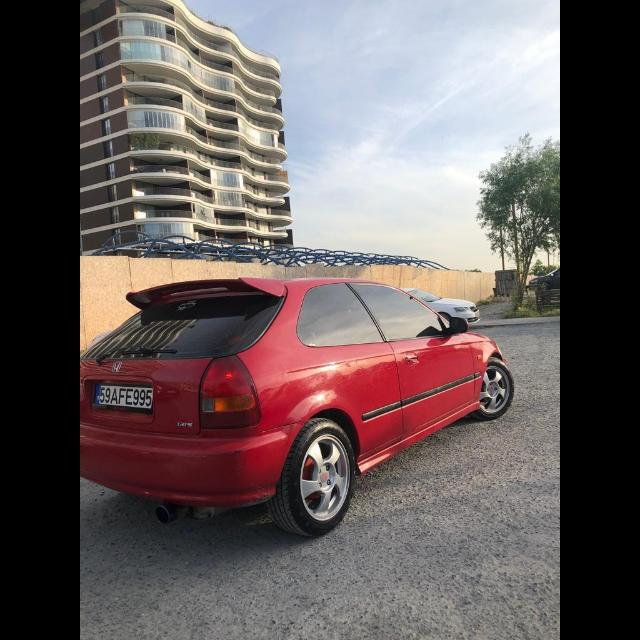Plaka: (94, 384, 154, 408)
